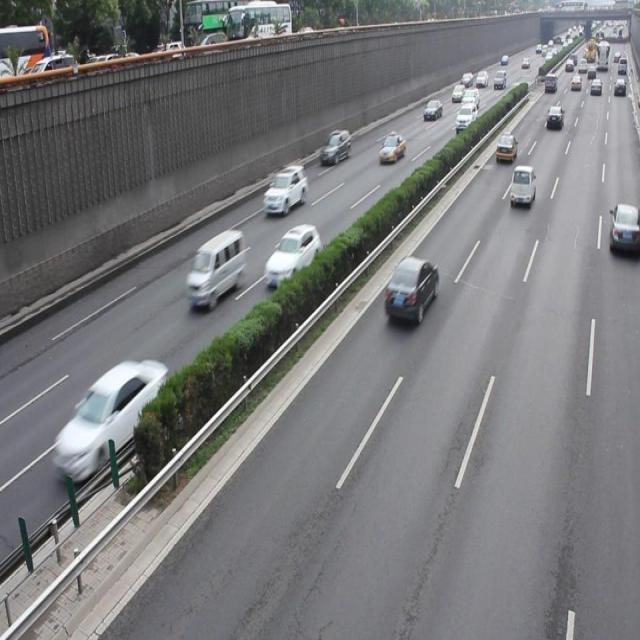car: (58, 360, 171, 480), (383, 254, 438, 324), (264, 225, 322, 287), (264, 163, 308, 216), (607, 204, 640, 254), (318, 128, 351, 166), (377, 133, 405, 162)
truck: (186, 228, 243, 309), (509, 165, 534, 207)
